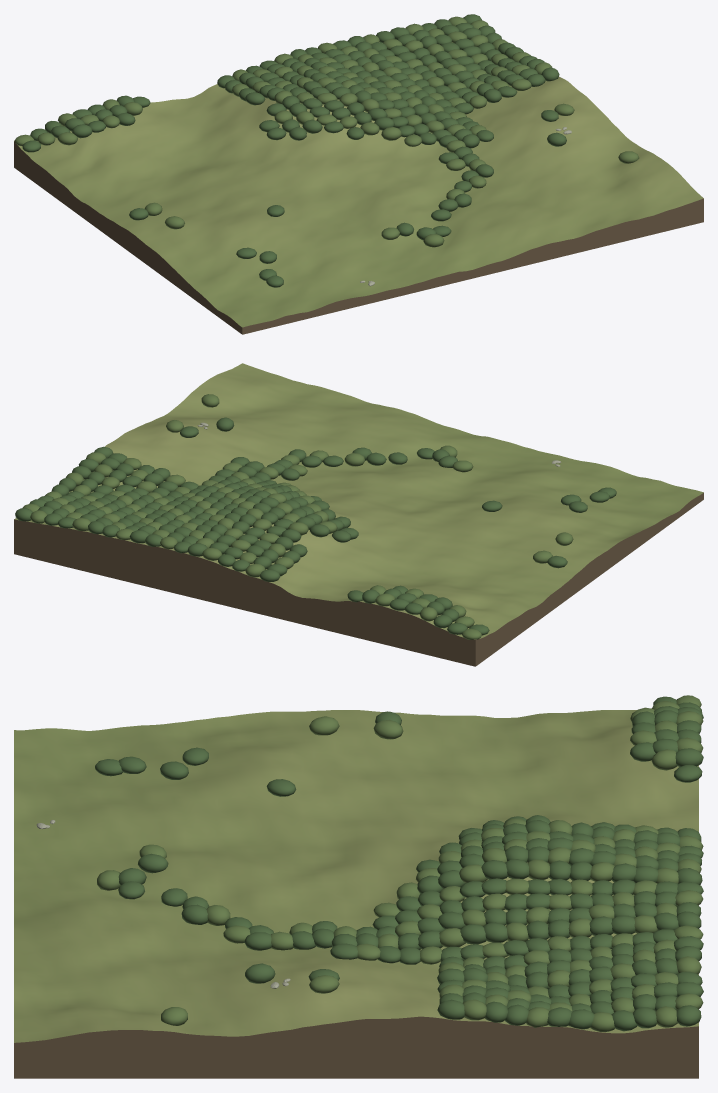
File: gms-03.glb
3 renders of one model, top to bottom at view 1: azimuth 30°, elevation 25°; view 2: azimuth 150°, elevation 25°; view 3: azimuth 270°, elevation 25°, orthographic. The views are drawn at different scales.
Visible parts, largest first — view 1: GMS-03 - estudio del paisaje; view 2: GMS-03 - estudio del paisaje; view 3: GMS-03 - estudio del paisaje.
Part boxes in pixels (x1=…): GMS-03 - estudio del paisaje: x1=14, y1=14, x2=703, y2=334; GMS-03 - estudio del paisaje: x1=14, y1=363, x2=703, y2=666; GMS-03 - estudio del paisaje: x1=14, y1=695, x2=703, y2=1078.
Bounding box in the file's own units: 12.1 × 1.46 × 10.36.
